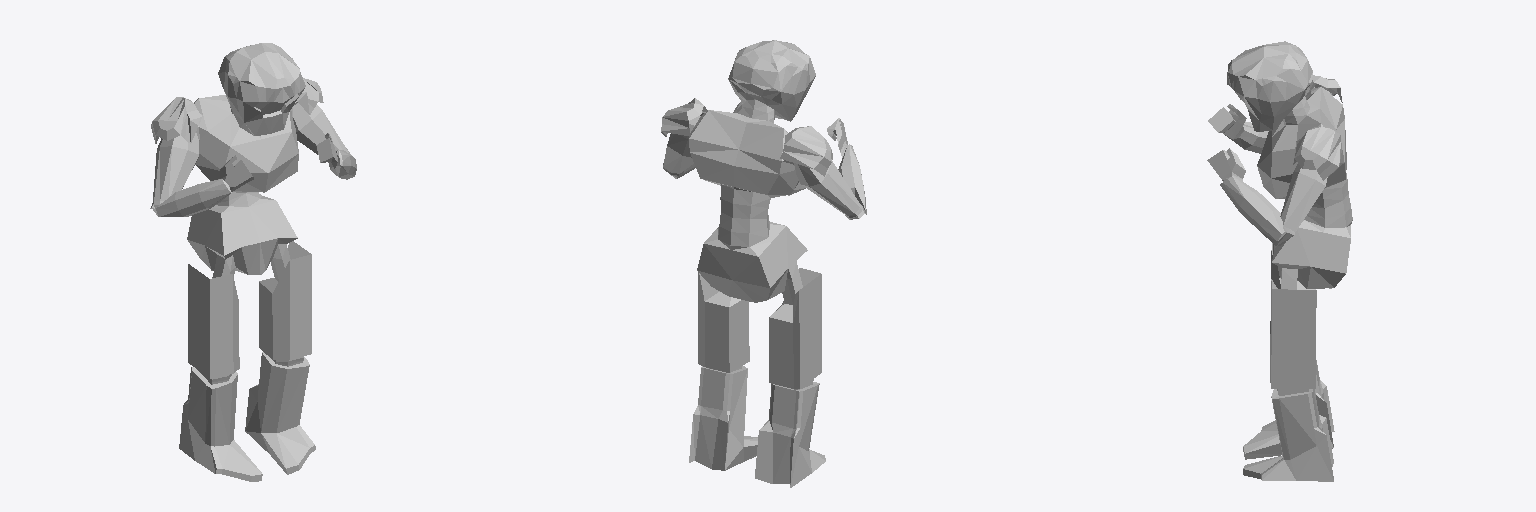
Rendered from Shputnik-Idle2.obj.
3 renders of one model, left to right at view 1: azimuth 30°, elevation 25°; view 2: azimuth 150°, elevation 25°; view 3: azimuth 270°, elevation 25°, orthographic.
Visible parts, largest first — view 1: Shputnik_Mesh; view 2: Shputnik_Mesh; view 3: Shputnik_Mesh.
Boxes of the visible parts, x1,y1,x2,y2 form: Shputnik_Mesh: [150, 43, 356, 481]; Shputnik_Mesh: [661, 40, 866, 487]; Shputnik_Mesh: [1207, 41, 1352, 481].
Size of the model in its own units: 5.88 by 11.69 by 3.68.